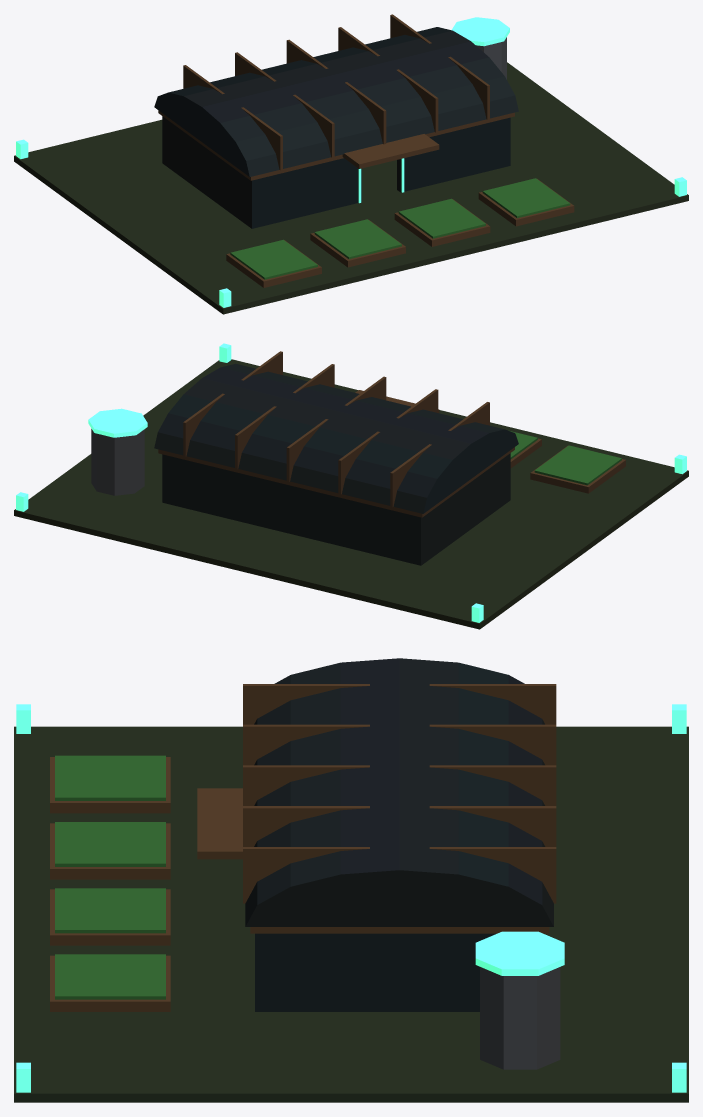
The model's file is shaddai_dist_forest_farm_v01.glb.
The picture shows the model from 3 angles, top to bottom: view 1: azimuth 30°, elevation 25°; view 2: azimuth 150°, elevation 25°; view 3: azimuth 270°, elevation 25°; orthographic projection. The views are drawn at different scales.
Parts seen in each view (by area): view 1: shaddai_dist_forest_farm; view 2: shaddai_dist_forest_farm; view 3: shaddai_dist_forest_farm.
Boxes of the visible parts, x1=… form: shaddai_dist_forest_farm: x1=14, y1=14, x2=688, y2=314; shaddai_dist_forest_farm: x1=14, y1=343, x2=688, y2=629; shaddai_dist_forest_farm: x1=14, y1=658, x2=688, y2=1102.
Bounding box in the file's own units: 36 × 7.1 × 28.
